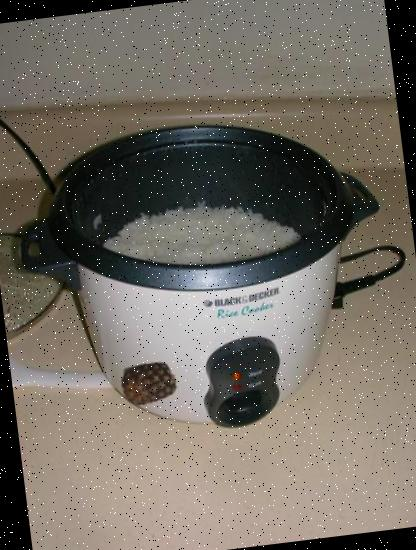Pineapple: (118, 352, 180, 414)
